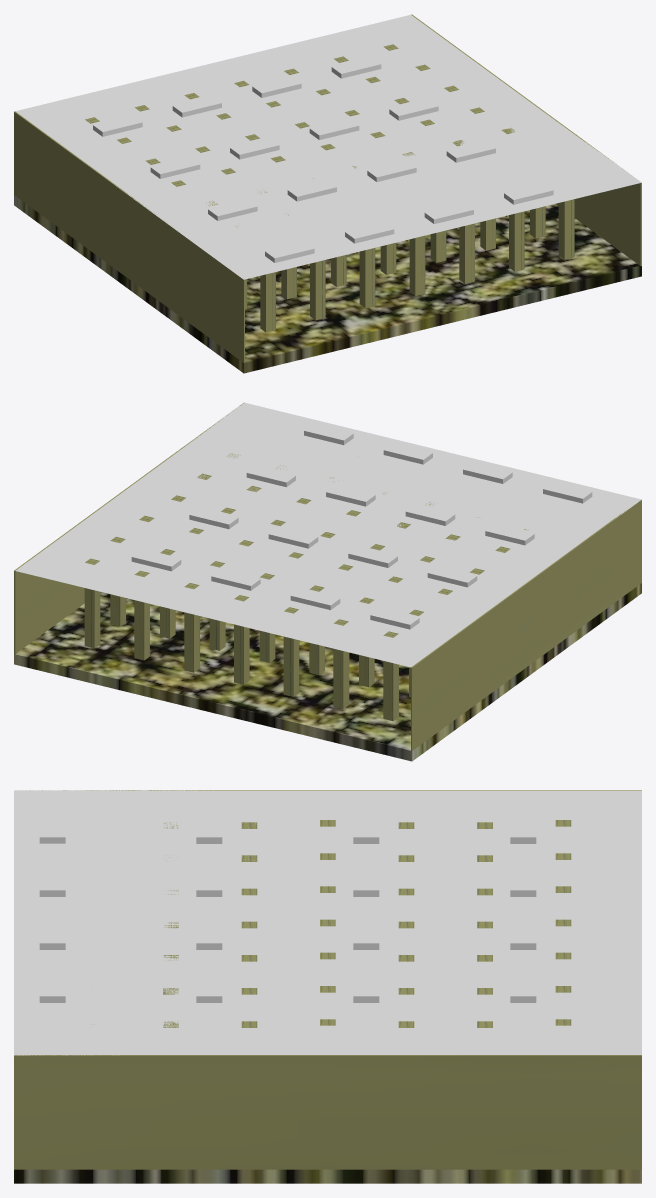
File: BackroomsLevelZero - 18.fbx
The picture shows the model from 3 angles, top to bottom: view 1: azimuth 30°, elevation 25°; view 2: azimuth 150°, elevation 25°; view 3: azimuth 270°, elevation 25°; orthographic projection. The views are drawn at different scales.
Parts seen in each view (by area): view 1: Floor.037, Floor.017, Wall.043, Wall.042, Cube.087, Cube.084, Cube.083, Cube.081, Cube.086, Cube.082, Cube.085, Cube.250 (+15 smaller); view 2: Floor.037, Floor.017, Wall.043, Wall.042, Cube.041, Cube.040, Cube.045, Cube.044, Cube.043, Cube.039, Cube.042, Cube.212 (+21 smaller); view 3: Floor.037, Wall.042, Floor.017, Cube.243, Cube.244, Cube.245, Cube.246, Cube.253, Cube.254, Cube.212, Cube.215, Cube.223 (+8 smaller).
Boxes of the visible parts, bbox=[...] form: Floor.037: bbox=[15, 14, 641, 279]; Floor.017: bbox=[14, 195, 641, 373]; Wall.043: bbox=[14, 111, 244, 362]; Wall.042: bbox=[411, 14, 641, 265]; Cube.087: bbox=[558, 199, 574, 259]; Cube.084: bbox=[409, 235, 425, 295]; Cube.083: bbox=[359, 248, 375, 308]; Cube.081: bbox=[260, 272, 275, 332]; Cube.086: bbox=[509, 211, 524, 271]; Cube.082: bbox=[310, 260, 325, 320]; Cube.085: bbox=[459, 223, 474, 283]; Cube.250: bbox=[331, 57, 381, 78]; Floor.037: bbox=[15, 402, 641, 667]; Floor.017: bbox=[14, 583, 641, 761]; Wall.043: bbox=[411, 500, 641, 750]; Wall.042: bbox=[14, 402, 244, 653]; Cube.041: bbox=[283, 607, 299, 696]; Cube.040: bbox=[333, 619, 349, 708]; Cube.045: bbox=[84, 558, 100, 648]; Cube.044: bbox=[134, 570, 149, 660]; Cube.043: bbox=[184, 583, 199, 672]; Cube.039: bbox=[383, 631, 398, 720]; Cube.042: bbox=[234, 595, 249, 684]; Cube.212: bbox=[427, 566, 477, 587]; Floor.037: bbox=[14, 790, 641, 1055]; Wall.042: bbox=[14, 1055, 641, 1169]; Floor.017: bbox=[14, 1169, 641, 1183]; Cube.243: bbox=[196, 810, 222, 843]; Cube.244: bbox=[39, 810, 65, 843]; Cube.245: bbox=[196, 863, 222, 896]; Cube.246: bbox=[39, 863, 65, 896]; Cube.253: bbox=[196, 969, 222, 1002]; Cube.254: bbox=[39, 969, 65, 1002]; Cube.212: bbox=[353, 810, 379, 843]; Cube.215: bbox=[353, 863, 379, 896]; Cube.223: bbox=[353, 969, 379, 1002].
Bounding box in the file's own units: 4000 × 946 × 4000.
